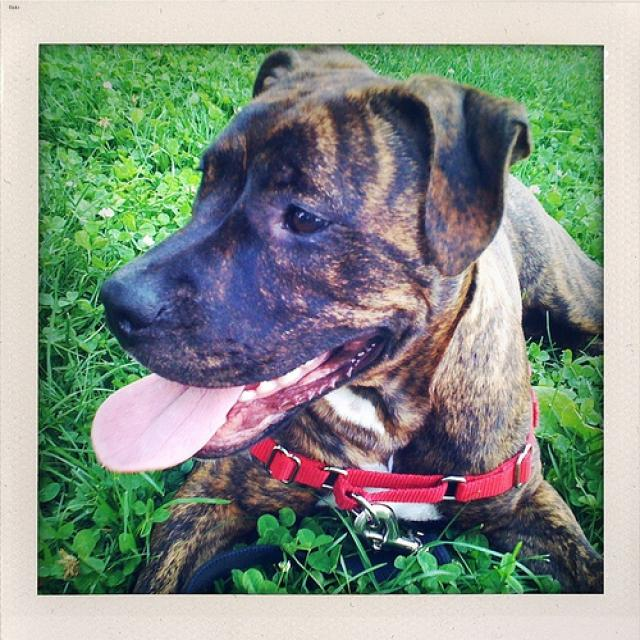dog-american_pit_bull_terrier: (78, 38, 621, 616)
